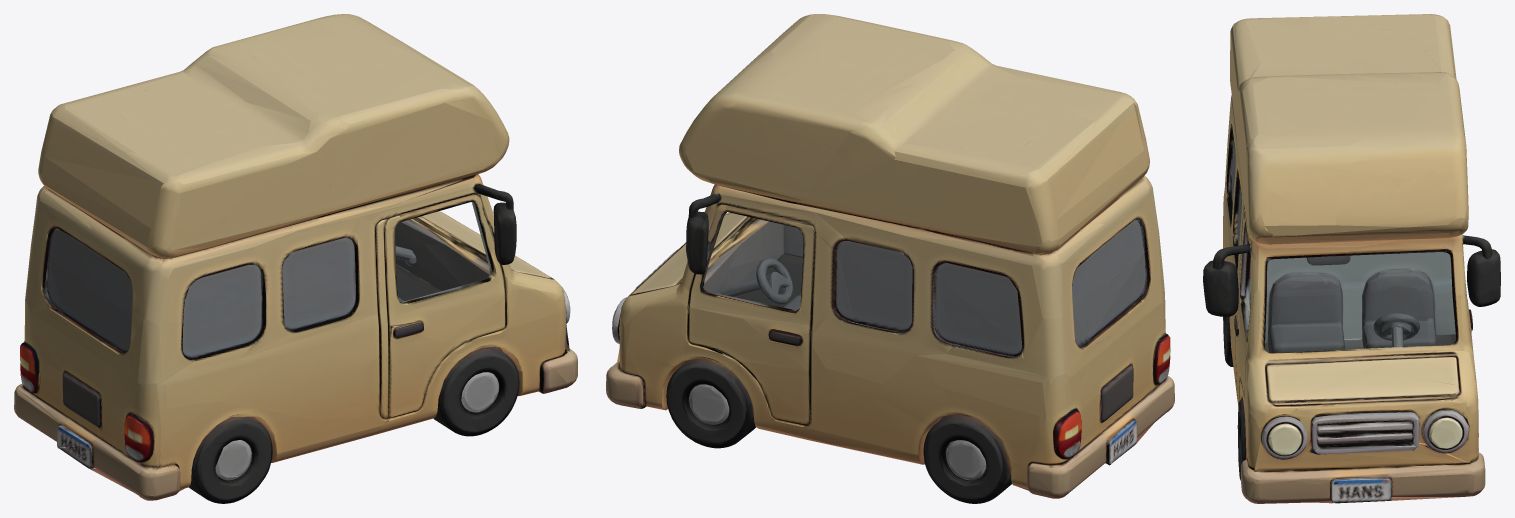
File: Campervan.glb
3 renders of one model, left to right at view 1: azimuth 30°, elevation 25°; view 2: azimuth 150°, elevation 25°; view 3: azimuth 270°, elevation 25°, orthographic. The views are drawn at different scales.
Parts seen in each view (by area): view 1: output_unwrapped; view 2: output_unwrapped; view 3: output_unwrapped.
Part boxes in pixels (x1=…): output_unwrapped: x1=14, y1=14, x2=577, y2=503; output_unwrapped: x1=606, y1=14, x2=1174, y2=503; output_unwrapped: x1=1203, y1=14, x2=1500, y2=503.
Bounding box in the file's own units: 2 × 1.45 × 1.17.
1 material, 1 textured.
